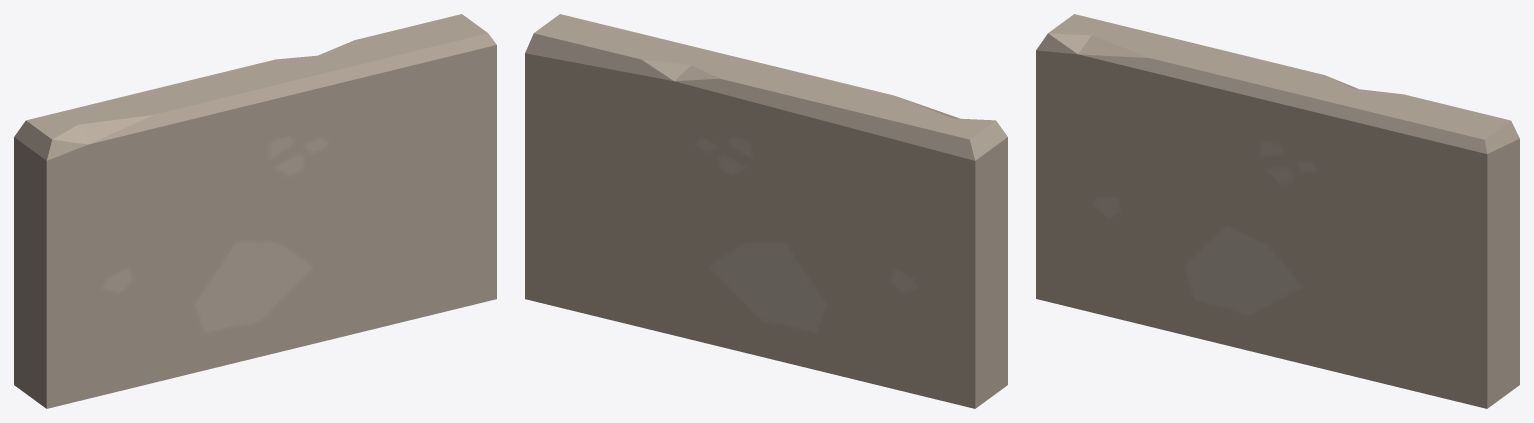
The model's file is SM_Bld_Village_Wall_01.fbx.
3 views of the same model, side by side, from view 1: azimuth 30°, elevation 25°; view 2: azimuth 150°, elevation 25°; view 3: azimuth 330°, elevation 25° (orthographic).
Visible parts, largest first — view 1: SM_Bld_Village_Wall_01; view 2: SM_Bld_Village_Wall_01; view 3: SM_Bld_Village_Wall_01.
Boxes of the visible parts, left/top/right/bottom form: SM_Bld_Village_Wall_01: left=14, top=14, right=496, bottom=408; SM_Bld_Village_Wall_01: left=525, top=14, right=1007, bottom=408; SM_Bld_Village_Wall_01: left=1036, top=14, right=1519, bottom=408.
Bounding box in the file's own units: 285 × 160 × 35.83.
